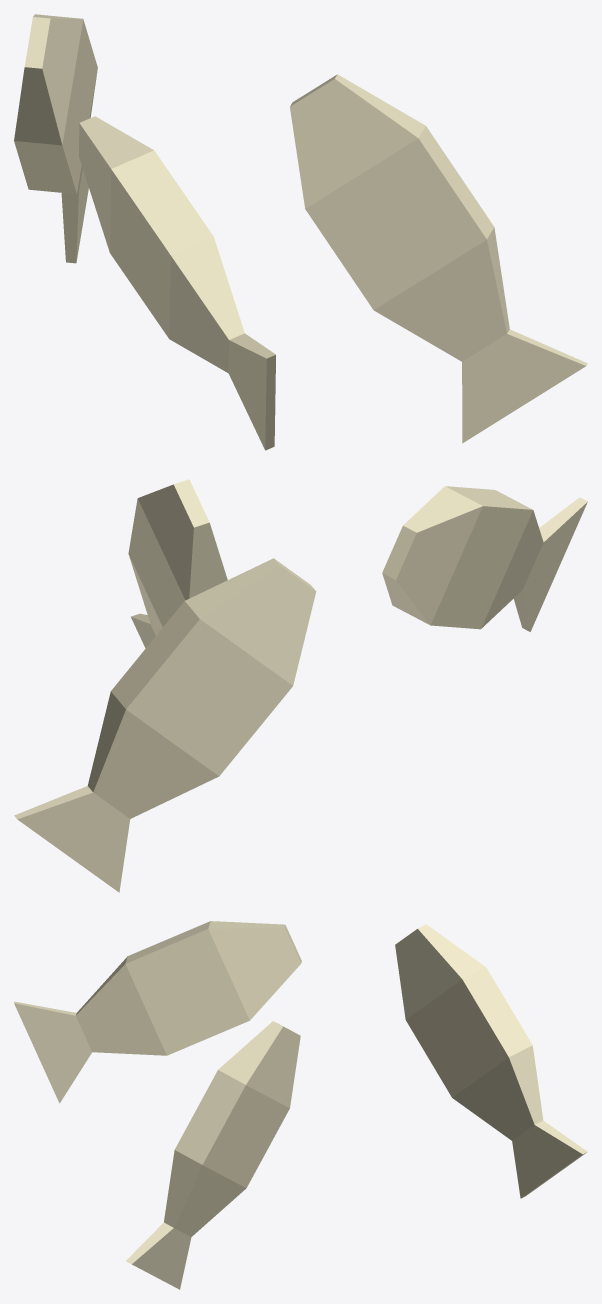
File: Fish-0.fbx
The picture shows the model from 3 angles, top to bottom: view 1: azimuth 30°, elevation 25°; view 2: azimuth 150°, elevation 25°; view 3: azimuth 270°, elevation 25°; orthographic projection. The views are drawn at different scales.
Parts seen in each view (by area): view 1: Fish-0; view 2: Fish-0; view 3: Fish-0.
Part boxes in pixels (left/top/right/bottom): Fish-0: left=14, top=14, right=587, bottom=450; Fish-0: left=14, top=479, right=587, bottom=892; Fish-0: left=14, top=921, right=587, bottom=1289.
Size of the model in its own units: 57.66 by 47.7 by 91.72.
